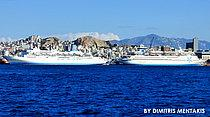Ship: (7, 43, 111, 68), (122, 46, 207, 69)
